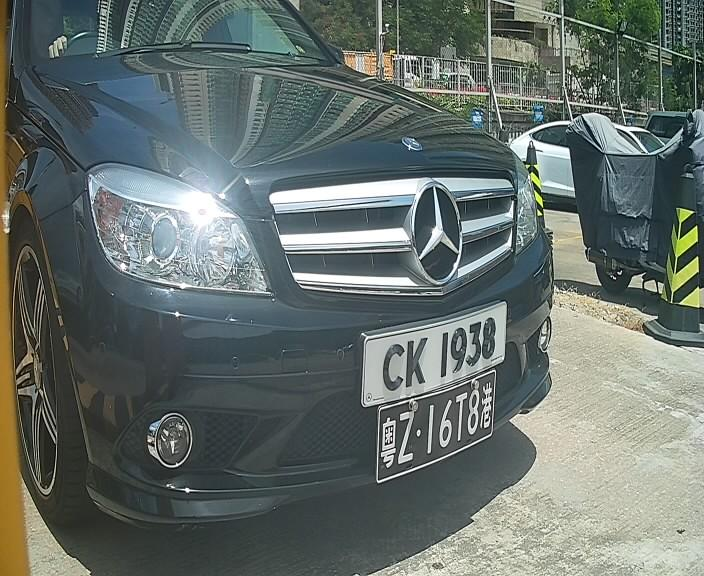License Plate: (356, 304, 513, 417)
